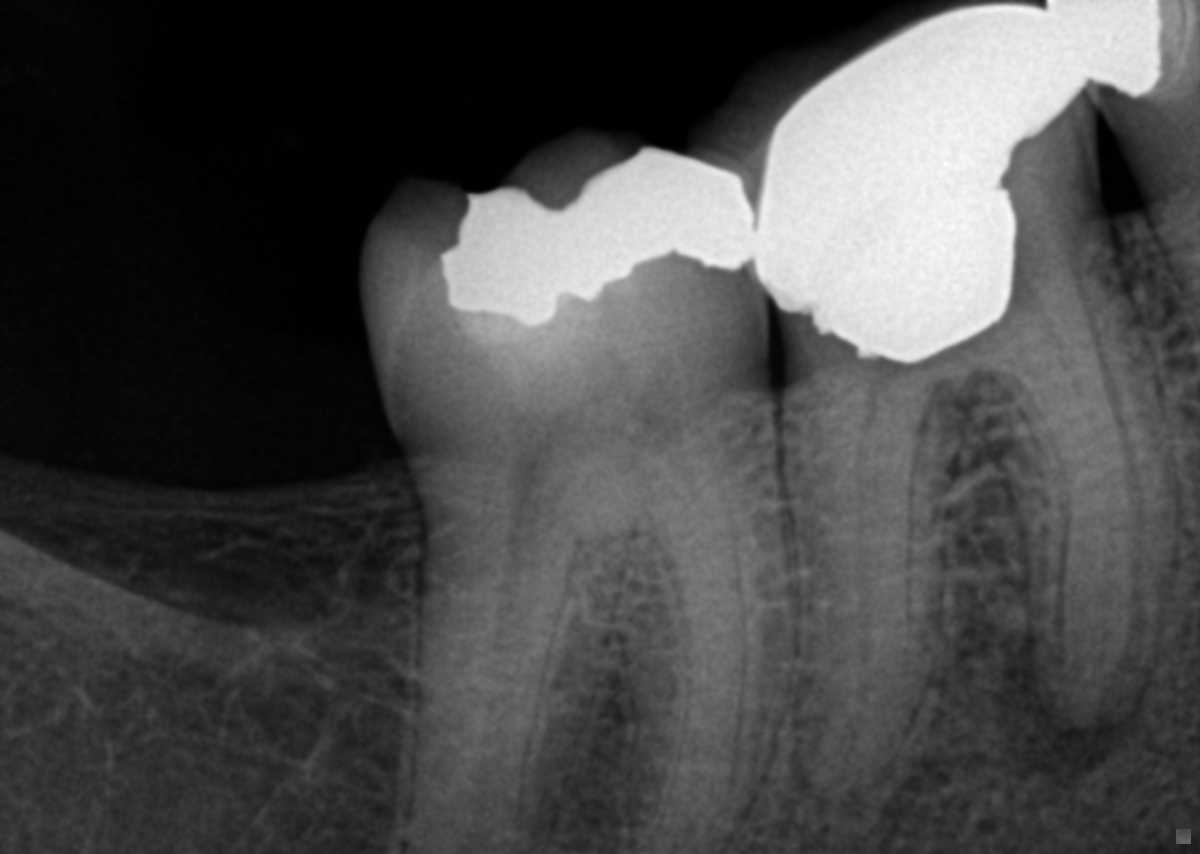Apical Lesion: (995, 638, 1142, 783), (775, 777, 890, 849)
Distal Canal: (474, 547, 548, 854), (859, 398, 879, 679)
Distal Root: (404, 534, 624, 854), (791, 394, 966, 792)
Mesial Root: (996, 298, 1177, 724), (598, 467, 795, 854)
decay: (688, 262, 775, 397), (783, 312, 855, 384)
